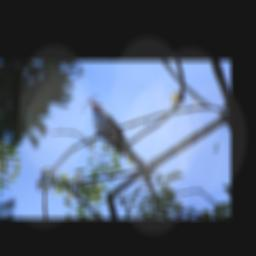Cuckoo: (67, 97, 165, 169)
